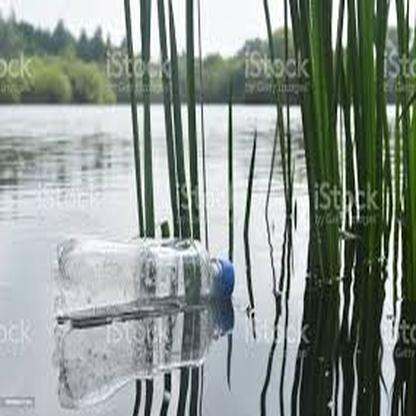plastic bottle: (56, 230, 234, 298)
